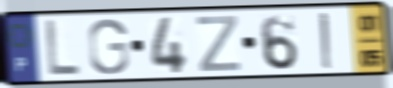4: (148, 14, 190, 75)
6: (258, 12, 300, 71)
G: (86, 17, 131, 77)
I: (317, 10, 336, 71)
L: (44, 17, 82, 78)
Z: (195, 13, 243, 73)
